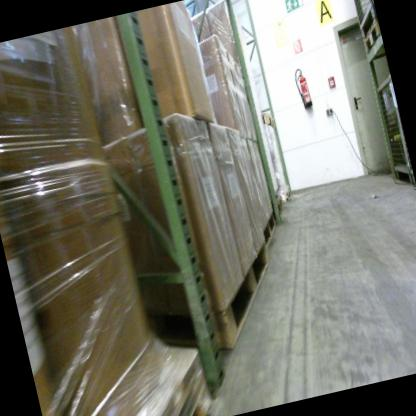pallet: (136, 236, 287, 367), (164, 370, 221, 416), (249, 208, 288, 262), (357, 16, 384, 57), (261, 107, 282, 143), (269, 191, 288, 218), (281, 188, 294, 207)
stillage: (369, 69, 414, 194), (385, 65, 416, 189), (350, 0, 380, 37)
